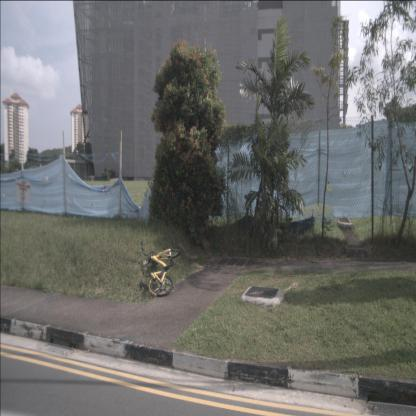vehicle-bicycle: (140, 240, 182, 298)
